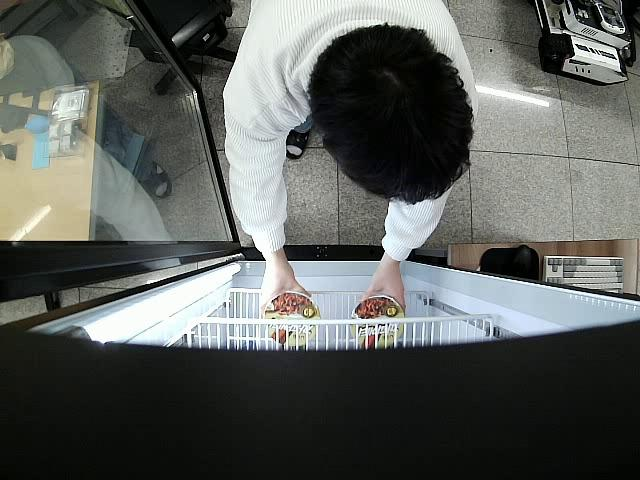00_hand: (259, 265, 313, 314), (359, 271, 405, 312)
03_chapagetti_L: (261, 292, 321, 347), (349, 297, 405, 349)
